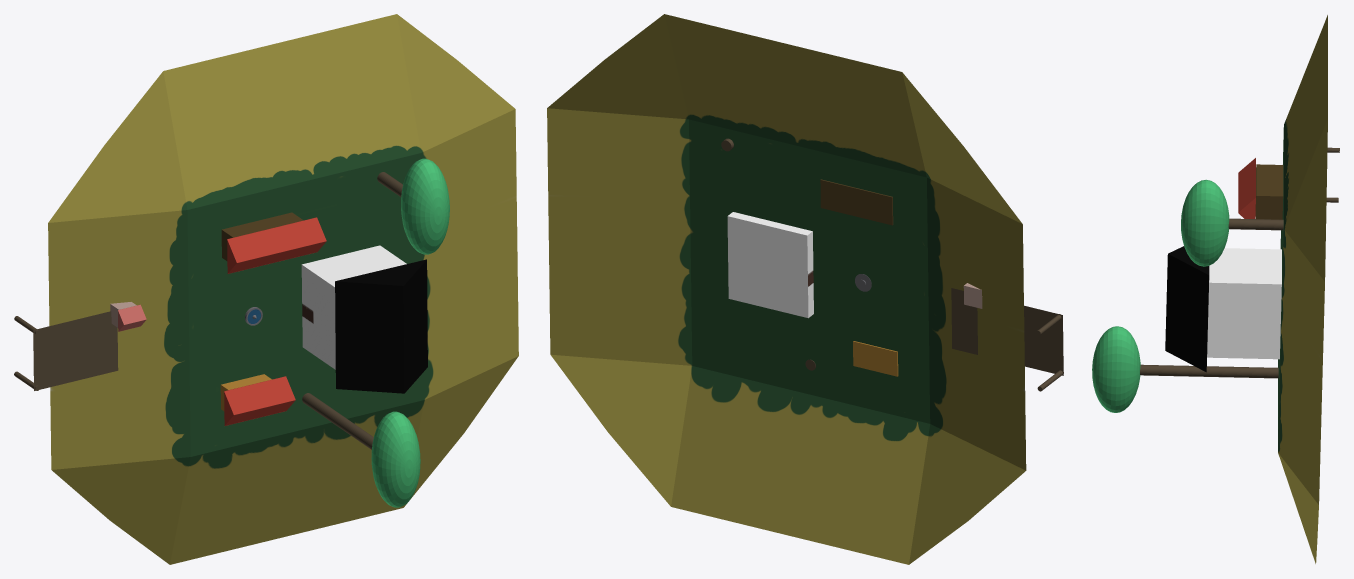
The model's file is island8.glb.
The picture shows the model from 3 angles, left to right: view 1: azimuth 30°, elevation 25°; view 2: azimuth 150°, elevation 25°; view 3: azimuth 270°, elevation 25°; orthographic projection. The views are drawn at different scales.
Visible parts, largest first — view 1: Plane, Cube.001, Plane.002, Cube, Sphere, Sphere.001, Cube.004, Cube.005, Cylinder, Cube.002; view 2: Plane, Cube, Plane.002, Cube.002, Cube.003; view 3: Plane, Cube, Cube.001, Sphere, Sphere.001, Cube.002, Cylinder, Cube.004, Cylinder.001.
Part boxes in pixels (x1=…): Plane: x1=48, y1=14, x2=518, y2=564; Cube.001: x1=335, y1=259, x2=427, y2=393; Plane.002: x1=33, y1=311, x2=118, y2=390; Cube: x1=301, y1=245, x2=406, y2=369; Sphere: x1=371, y1=411, x2=420, y2=507; Sphere.001: x1=401, y1=158, x2=449, y2=254; Cube.004: x1=227, y1=217, x2=326, y2=273; Cube.005: x1=224, y1=376, x2=295, y2=425; Cylinder: x1=302, y1=393, x2=373, y2=449; Cube.002: x1=221, y1=212, x2=303, y2=260; Plane: x1=547, y1=14, x2=1026, y2=564; Cube: x1=727, y1=212, x2=813, y2=318; Plane.002: x1=951, y1=288, x2=1063, y2=375; Cube.002: x1=820, y1=179, x2=893, y2=225; Cube.003: x1=853, y1=341, x2=898, y2=376; Plane: x1=1278, y1=15, x2=1327, y2=563; Cube: x1=1207, y1=248, x2=1281, y2=359; Cube.001: x1=1165, y1=246, x2=1209, y2=372; Sphere: x1=1092, y1=326, x2=1140, y2=412; Sphere.001: x1=1181, y1=179, x2=1229, y2=266; Cube.002: x1=1255, y1=164, x2=1283, y2=219; Cylinder: x1=1140, y1=364, x2=1278, y2=378; Cube.004: x1=1238, y1=158, x2=1255, y2=218; Cylinder.001: x1=1228, y1=218, x2=1283, y2=230.
Bounding box in the file's own units: 12.62 × 11.92 × 5.99.
Materials: 19 (19 with a texture image).
